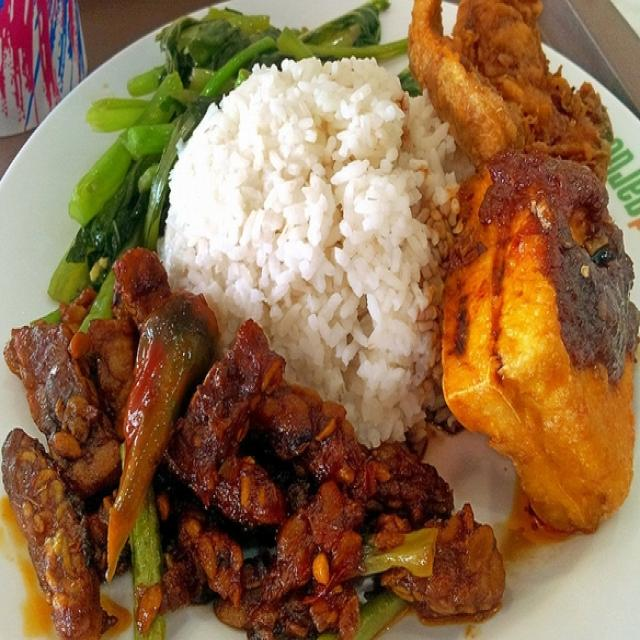米饭主食: (11, 12, 617, 615)
